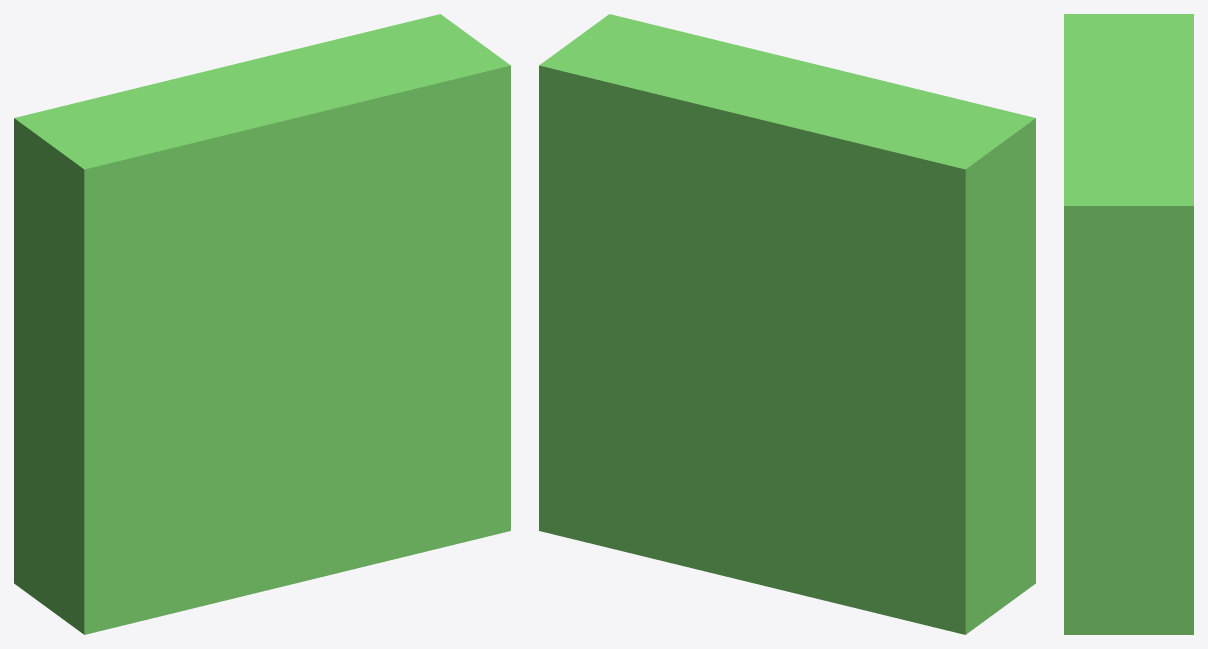
Rendered from sm_Collider28.fbx.
The picture shows the model from 3 angles, left to right: view 1: azimuth 30°, elevation 25°; view 2: azimuth 150°, elevation 25°; view 3: azimuth 270°, elevation 25°; orthographic projection. The views are drawn at different scales.
Parts seen in each view (by area): view 1: sm_Collider.038; view 2: sm_Collider.038; view 3: sm_Collider.038.
Boxes of the visible parts, <box> form: sm_Collider.038: <box>14,14,510,634</box>; sm_Collider.038: <box>539,14,1035,634</box>; sm_Collider.038: <box>1064,14,1193,634</box>.
Bounding box in the file's own units: 700 × 730 × 200.
